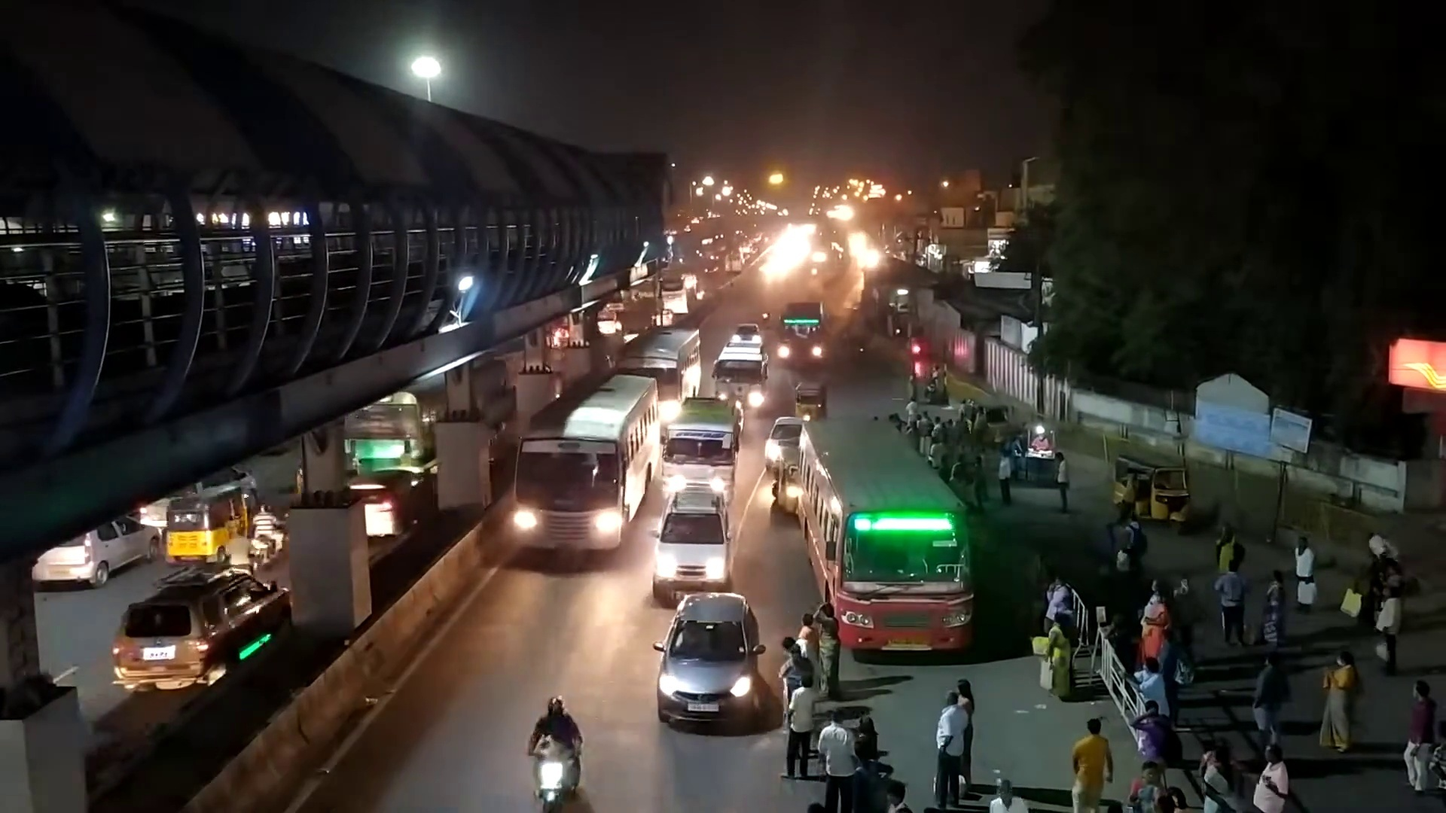driver_helmet: (529, 697, 586, 762), (254, 503, 280, 539)
driver_no_helmet: (228, 528, 252, 564)
motorcycle: (527, 696, 585, 813), (253, 503, 289, 562), (226, 527, 261, 576)
